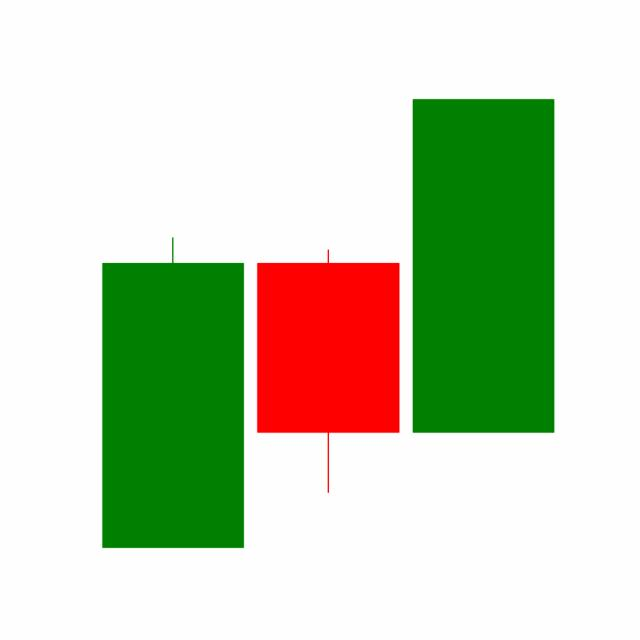Marubozu: (405, 95, 561, 436)
